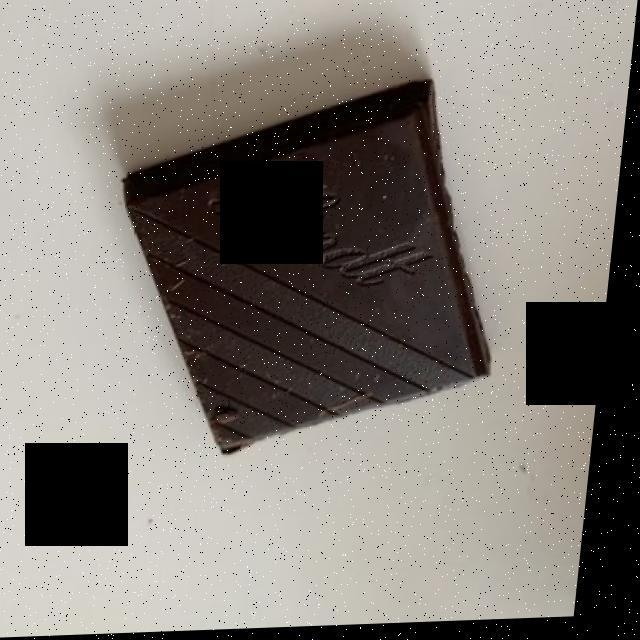chocolate: (131, 91, 490, 437)
